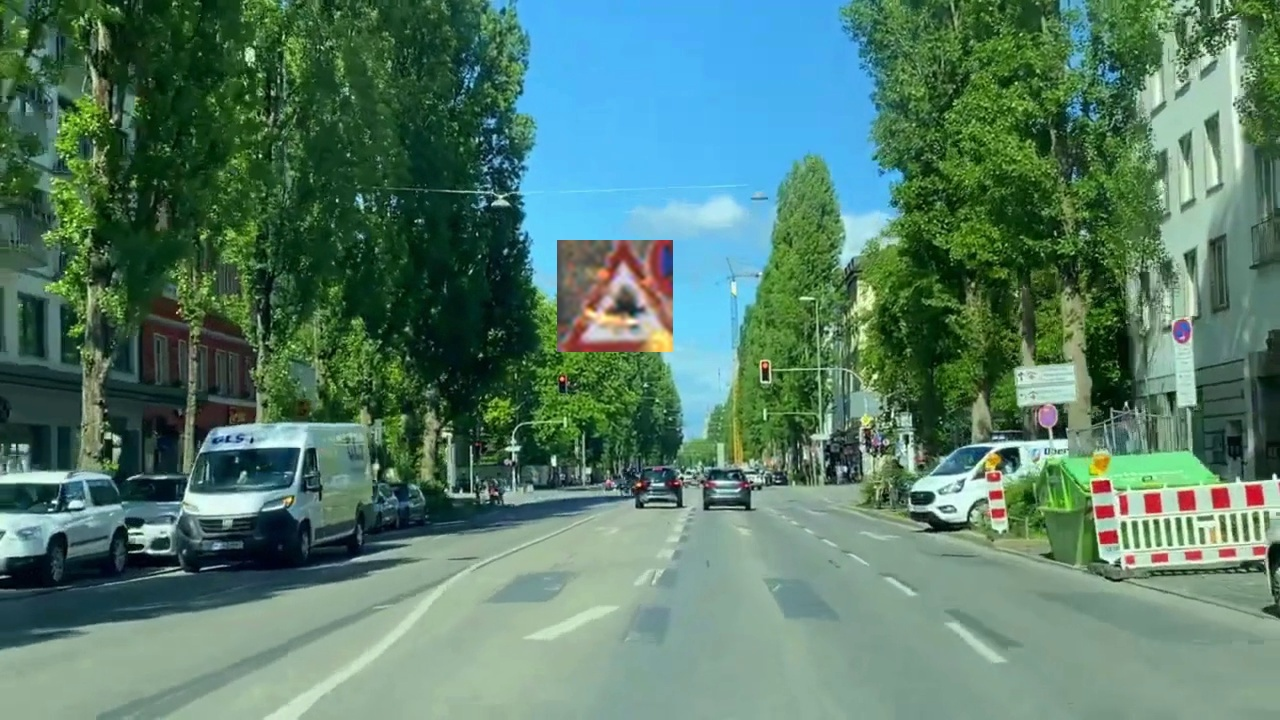Right-of-way: (557, 240, 673, 352)
